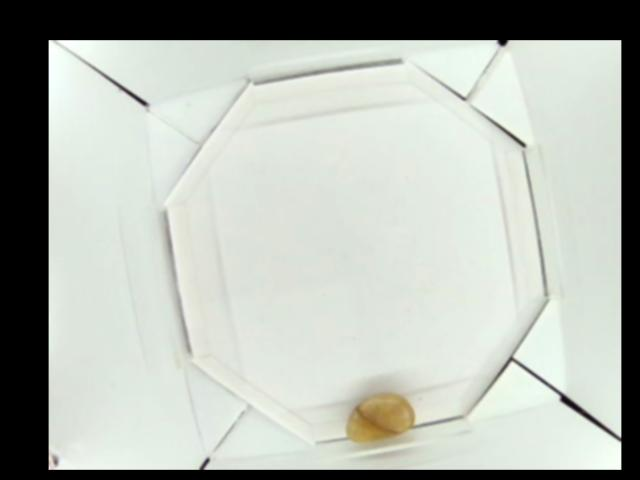Pebble: (345, 395, 420, 446)
